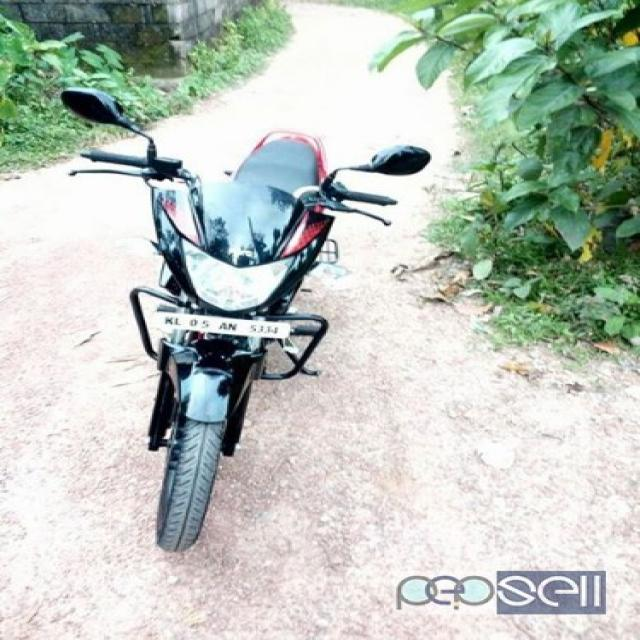number plate: (150, 310, 292, 339)
